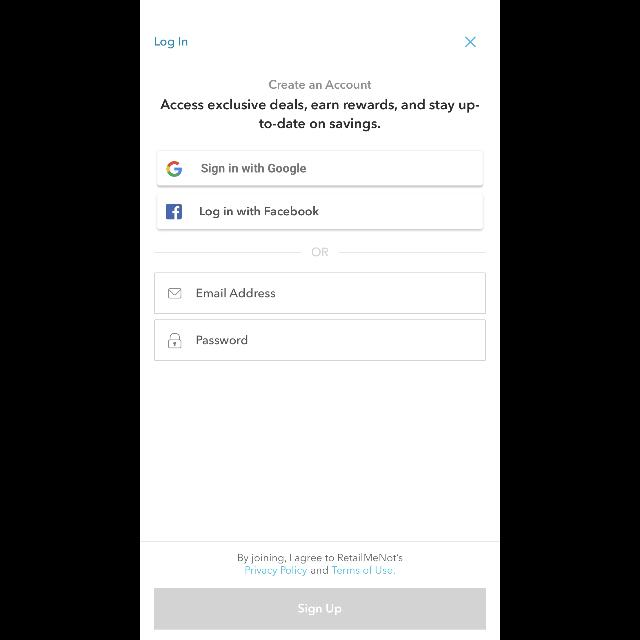icon: (168, 334, 182, 348), (168, 288, 182, 300), (464, 36, 476, 48)
input: (154, 319, 486, 361), (154, 272, 486, 314)
text: (160, 99, 480, 131), (238, 554, 402, 576), (269, 80, 371, 88), (197, 288, 275, 298), (196, 335, 248, 345), (155, 37, 187, 49), (312, 248, 328, 256)
textbutton: (154, 588, 486, 630), (158, 150, 482, 186), (158, 194, 482, 230)
